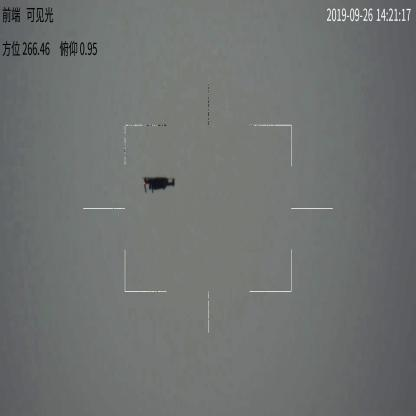uav: (140, 173, 180, 195)
